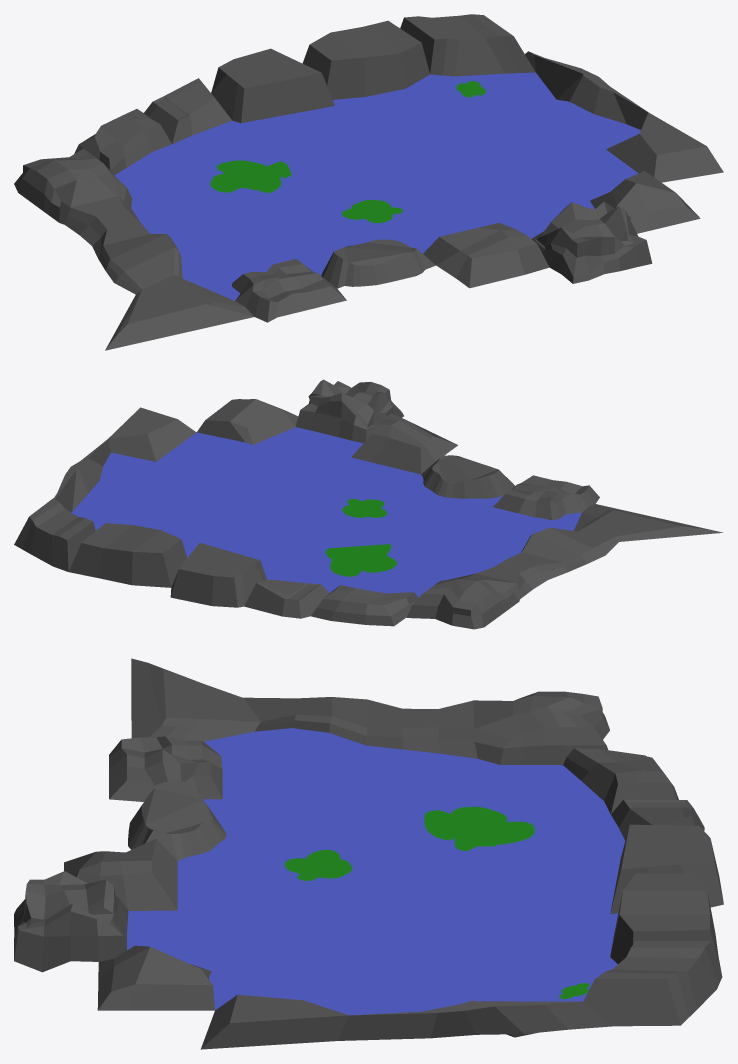
The model's file is ike.fbx.
The picture shows the model from 3 angles, top to bottom: view 1: azimuth 30°, elevation 25°; view 2: azimuth 150°, elevation 25°; view 3: azimuth 270°, elevation 25°; orthographic projection. The views are drawn at different scales.
Visible parts, largest first — view 1: 平面.001; view 2: 平面.001; view 3: 平面.001.
Part boxes in pixels (bbox=[...]): 平面.001: bbox=[14, 14, 723, 350]; 平面.001: bbox=[14, 379, 722, 629]; 平面.001: bbox=[14, 658, 723, 1049].
Size of the model in its own units: 1627 by 131 by 1248.
